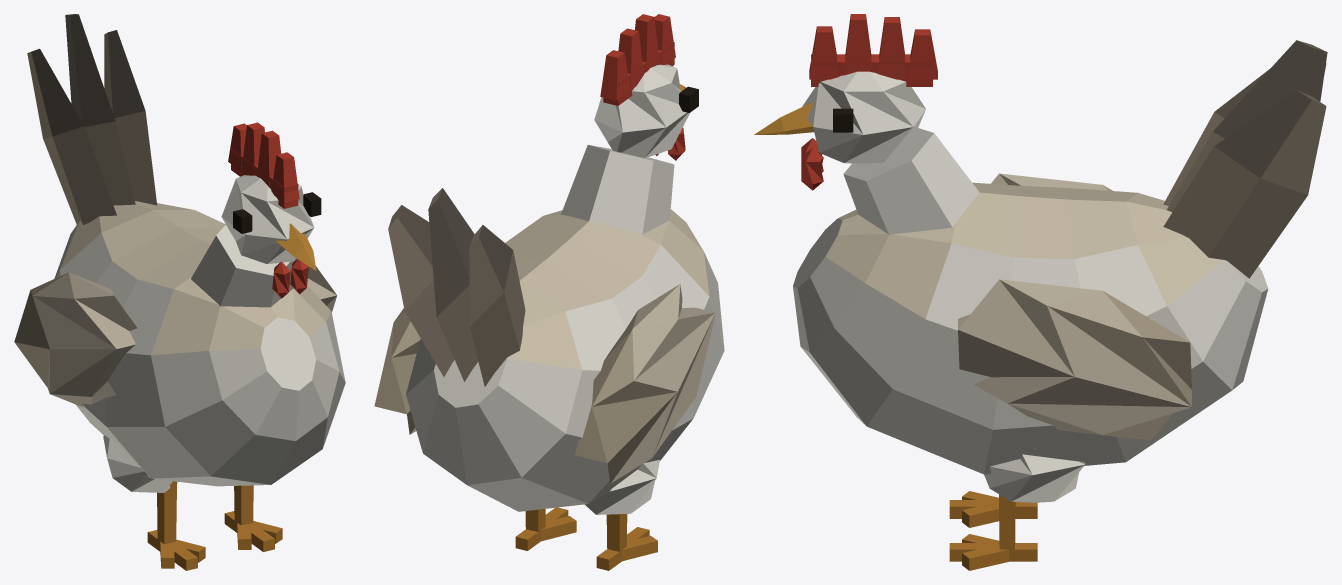
The model's file is hen.glb.
3 views of the same model, side by side, from view 1: azimuth 30°, elevation 25°; view 2: azimuth 150°, elevation 25°; view 3: azimuth 270°, elevation 25° (orthographic). The views are drawn at different scales.
Visible parts, largest first — view 1: hen_body, hen_wing_R, hen_head, hen_neck, hen_leg_R, hen_leg_L, hen_wing_L; view 2: hen_body, hen_wing_R, hen_head, hen_neck, hen_wing_L, hen_leg_R, hen_leg_L; view 3: hen_body, hen_wing_L, hen_head, hen_neck, hen_leg_L, hen_leg_R, hen_wing_R.
Boxes of the visible parts, x1,y1,x2,y2 form: hen_body: [27, 14, 345, 492]; hen_wing_R: [14, 272, 137, 407]; hen_head: [221, 122, 321, 298]; hen_neck: [191, 225, 296, 307]; hen_leg_R: [147, 481, 205, 570]; hen_leg_L: [224, 485, 282, 551]; hen_wing_L: [307, 266, 337, 312]; hen_body: [388, 188, 724, 514]; hen_wing_R: [575, 284, 715, 483]; hen_head: [594, 14, 698, 160]; hen_neck: [561, 145, 674, 234]; hen_wing_L: [374, 308, 420, 434]; hen_leg_R: [596, 514, 657, 570]; hen_leg_L: [515, 507, 576, 550]; hen_body: [793, 40, 1327, 502]; hen_wing_L: [958, 279, 1191, 440]; hen_head: [754, 14, 937, 190]; hen_neck: [843, 128, 979, 235]; hen_leg_L: [949, 494, 1037, 570]; hen_leg_R: [949, 491, 1037, 527]; hen_wing_R: [991, 173, 1112, 190].
Bounding box in the file's own units: 0.196 × 0.339 × 0.3392.
